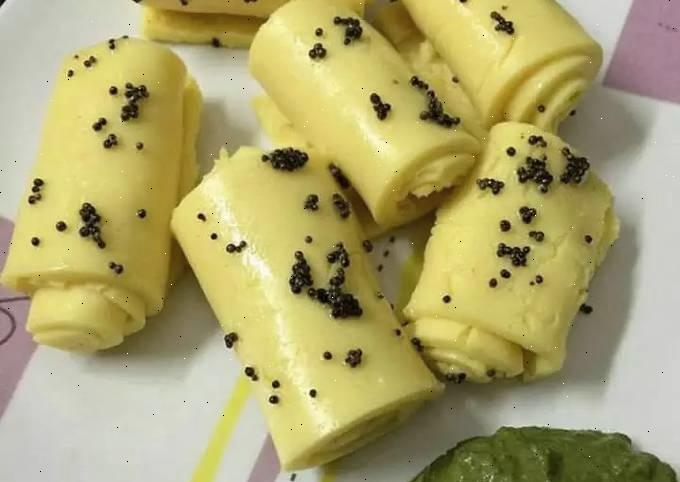khandvi: (5, 0, 680, 418)
